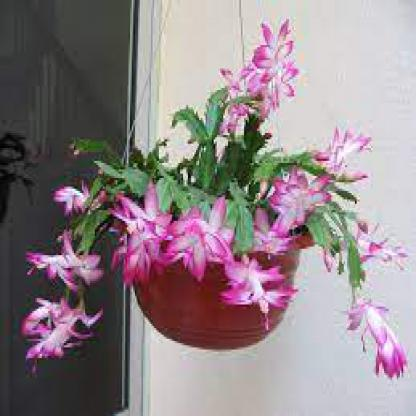Aglonema: (18, 50, 366, 303)
